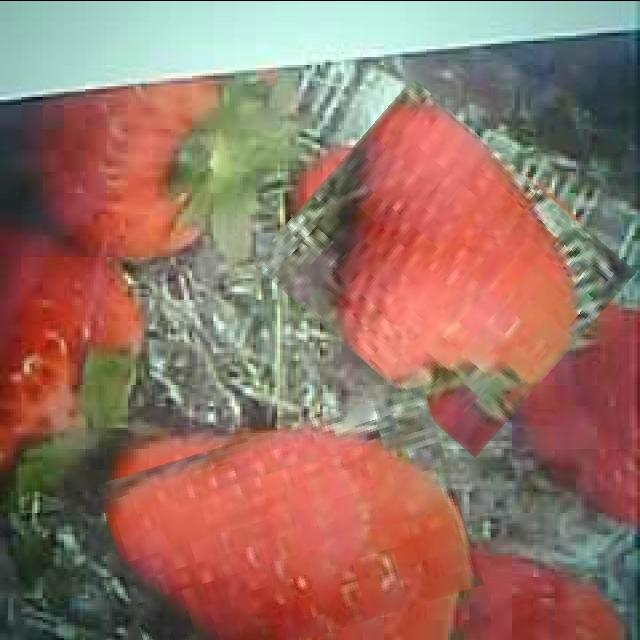strawberry: (274, 110, 614, 422), (108, 406, 473, 640)
